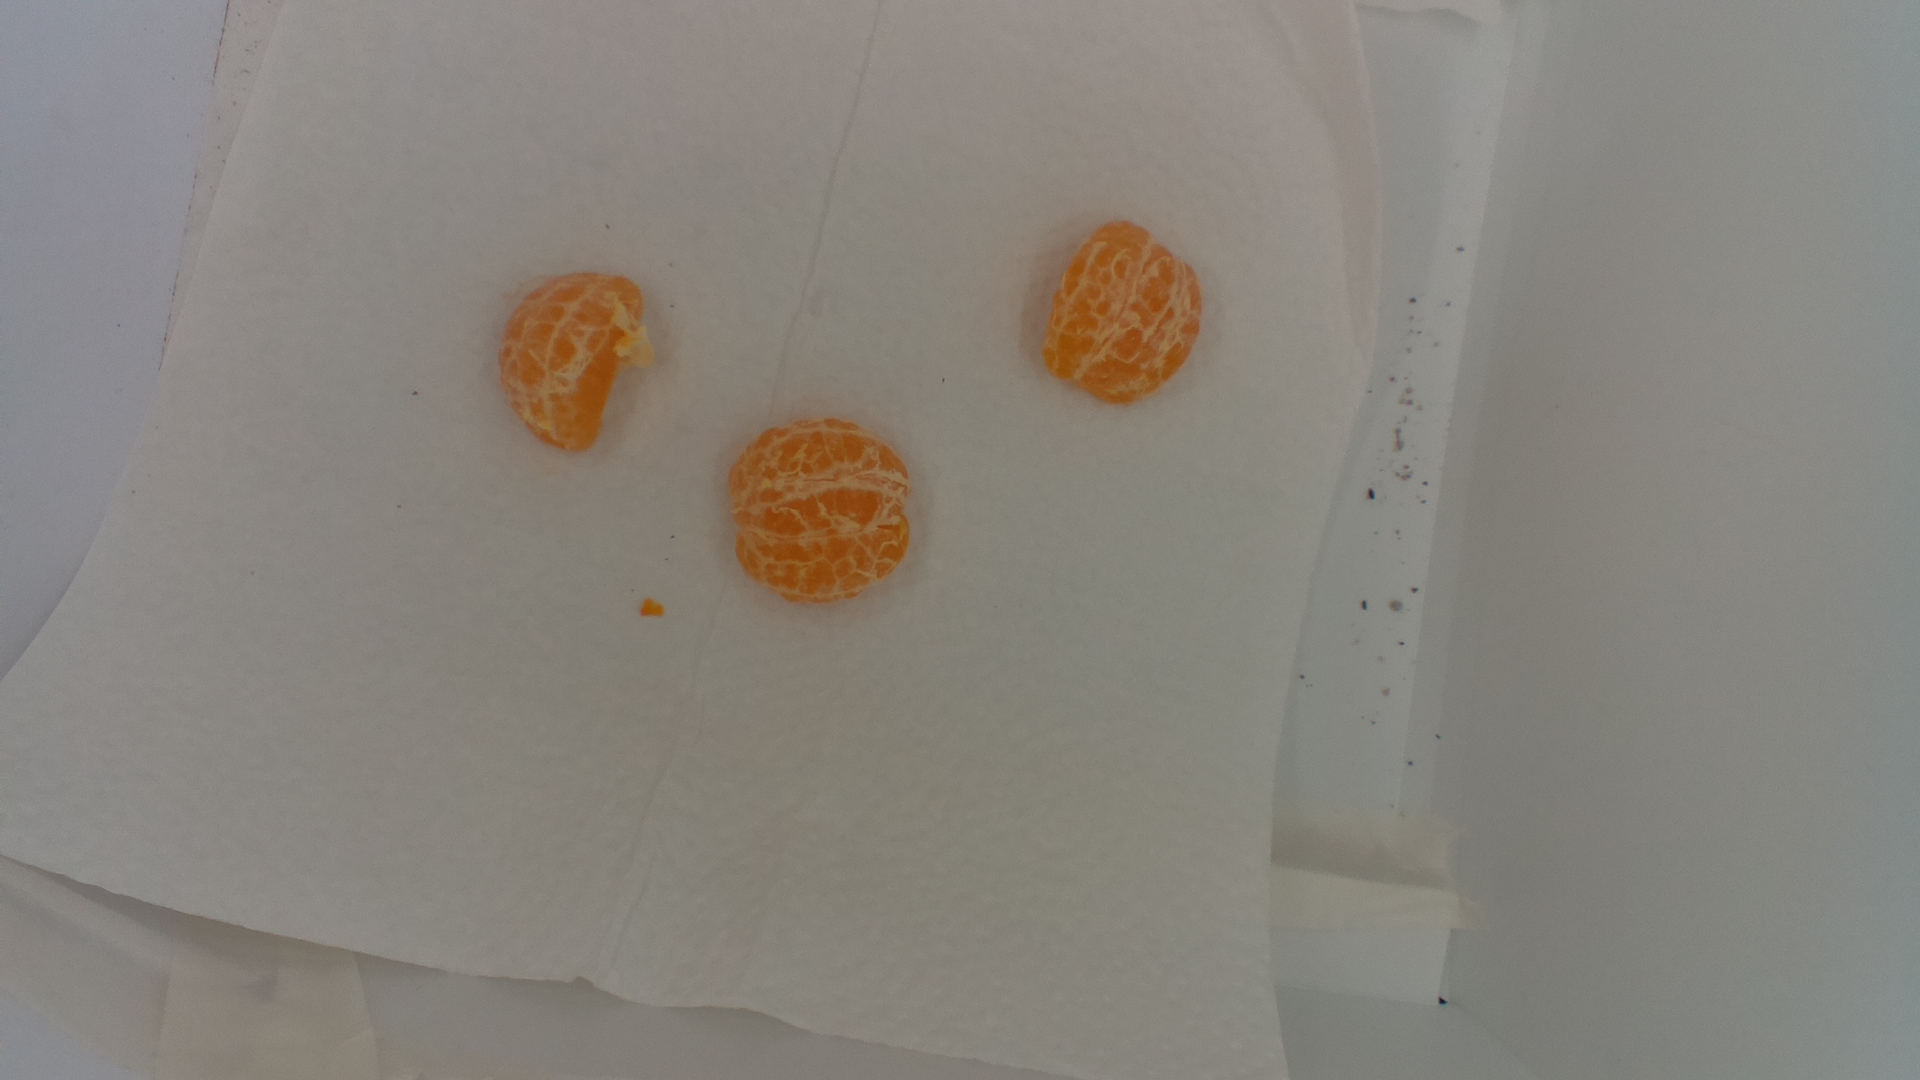fruit: (729, 419, 916, 605), (1036, 211, 1211, 407), (493, 266, 659, 458)
